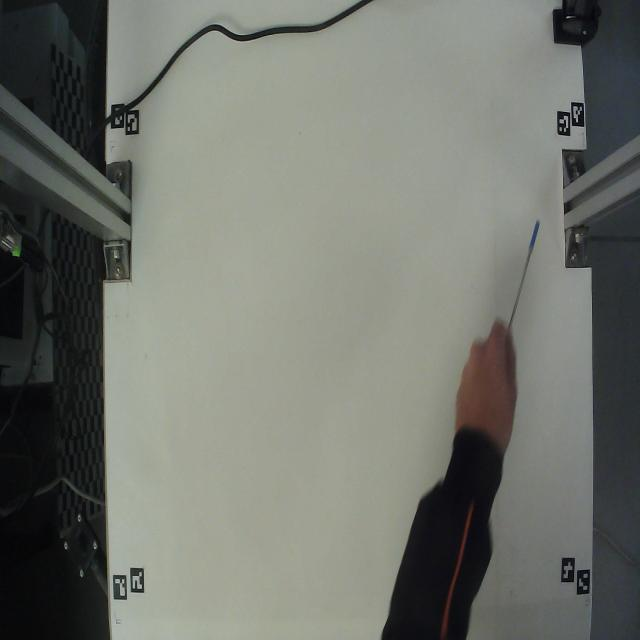NoPres: (498, 206, 548, 352)
